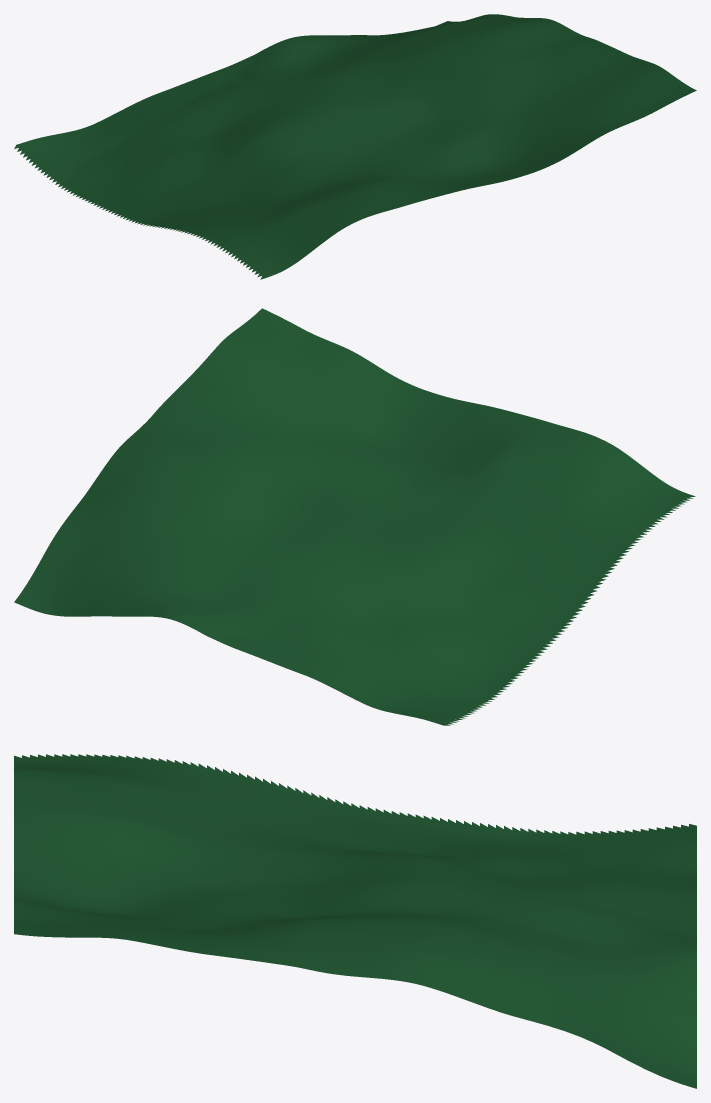
Rendered from payo_land_x1_ym3_lod1.glb.
3 renders of one model, top to bottom at view 1: azimuth 30°, elevation 25°; view 2: azimuth 150°, elevation 25°; view 3: azimuth 270°, elevation 25°, orthographic. The views are drawn at different scales.
Visible parts, largest first — view 1: payo_land_x1_ym3; view 2: payo_land_x1_ym3; view 3: payo_land_x1_ym3.
Boxes of the visible parts, x1,y1,x2,y2 form: payo_land_x1_ym3: (14,14,696,279); payo_land_x1_ym3: (14,308,695,725); payo_land_x1_ym3: (14,754,696,1088).
Size of the model in its own units: 258 by 78.13 by 255.
